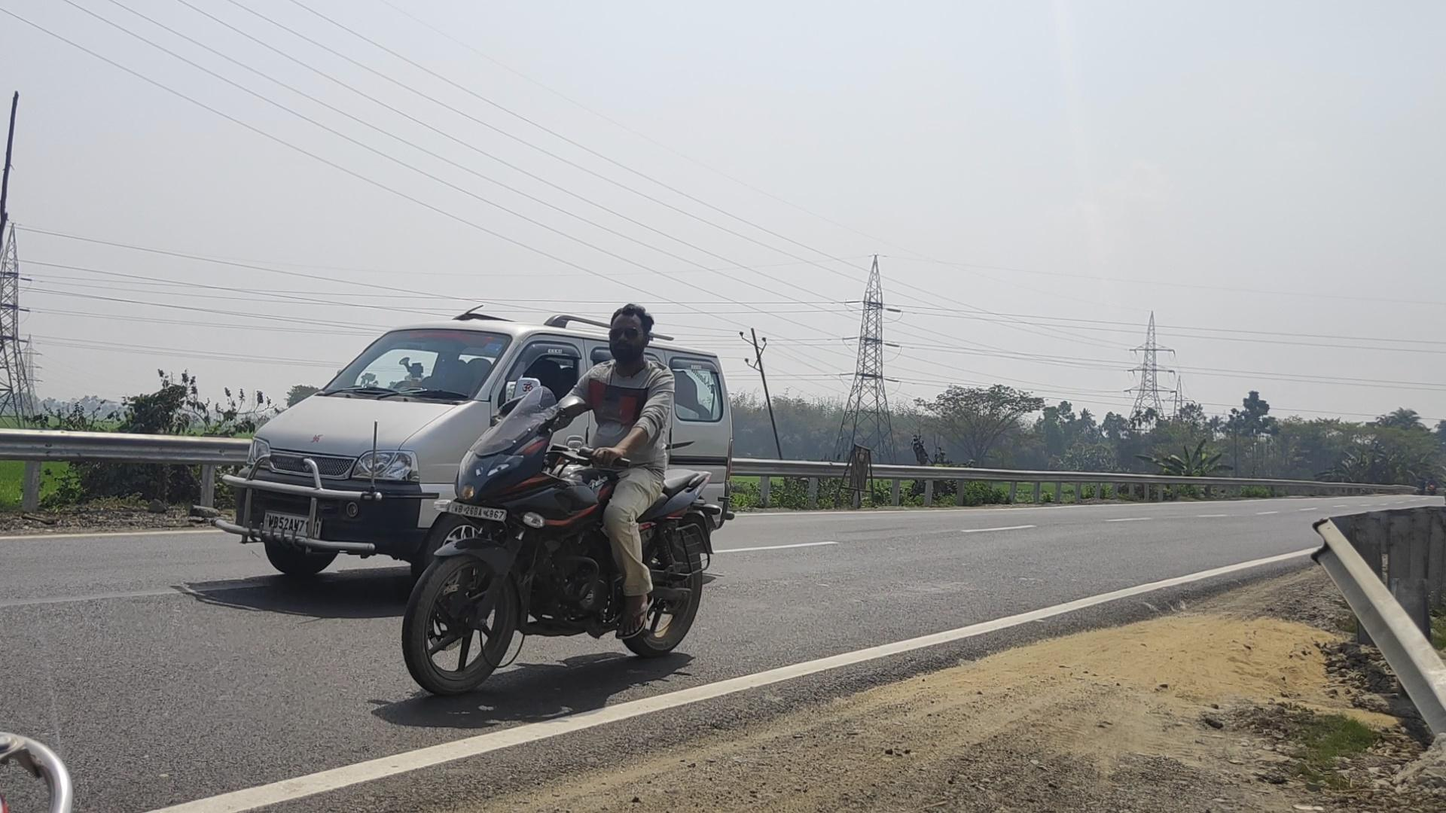bike: (401, 303, 712, 697)
van: (214, 312, 732, 597)
